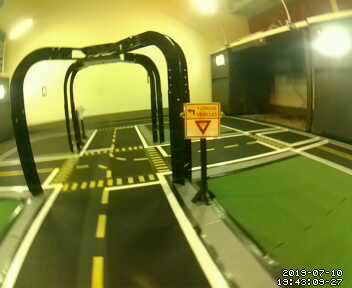Turn Yield: (182, 101, 221, 140)
